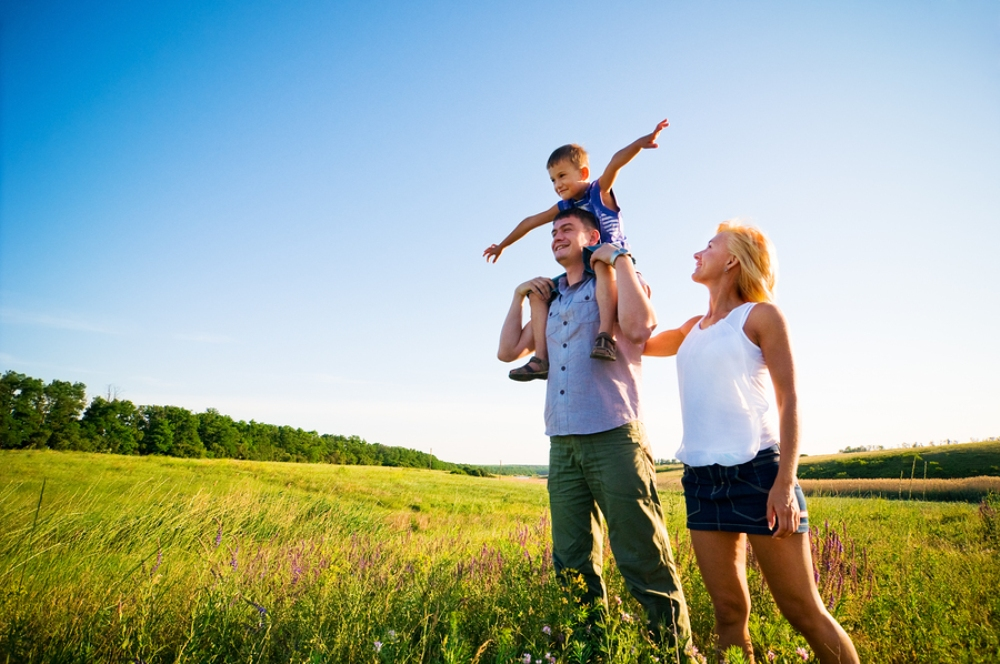Person: (657, 231, 890, 664), (483, 209, 704, 659), (457, 107, 688, 375)
